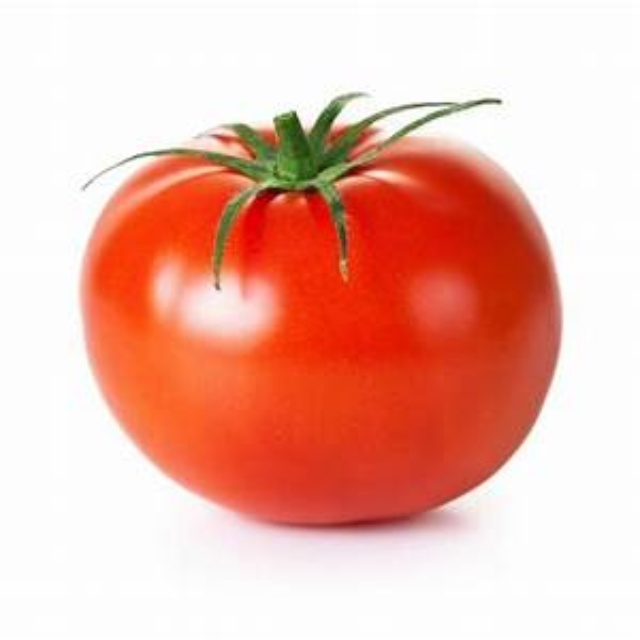tomato: (73, 95, 570, 532)
